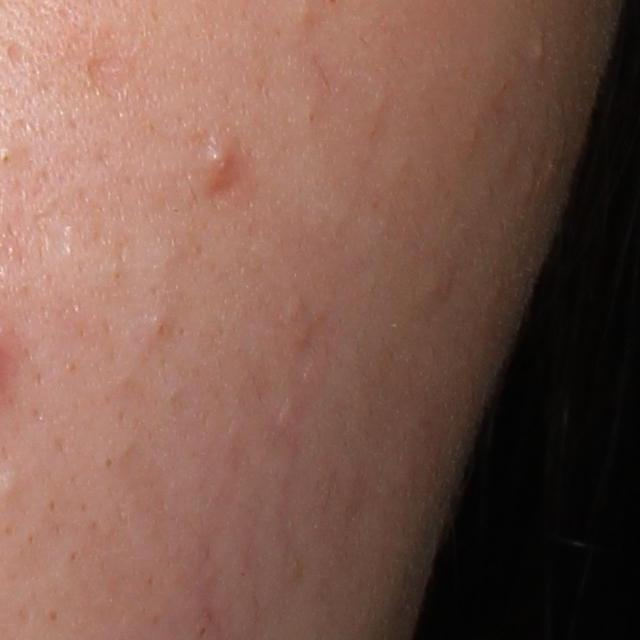atrophic_scar: (2, 36, 29, 63)
comedo: (142, 310, 177, 345), (532, 37, 547, 64)
papule: (204, 141, 238, 181)
